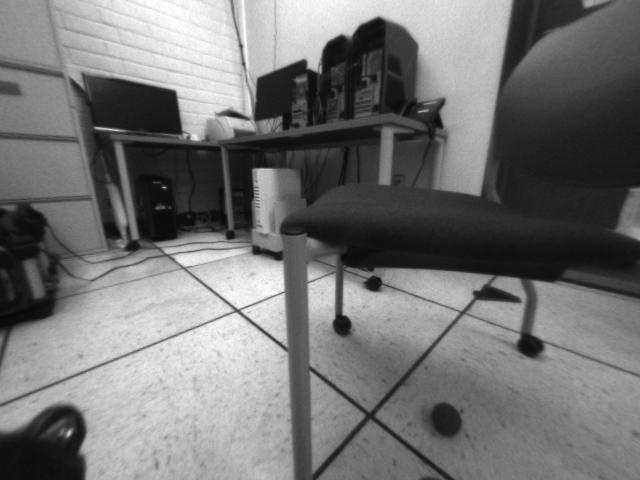dogtoy: (426, 395, 470, 441)
